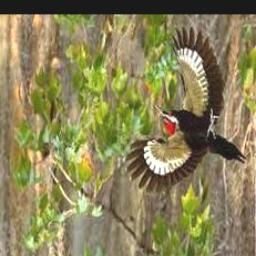Woodpecker: (122, 30, 246, 195)
